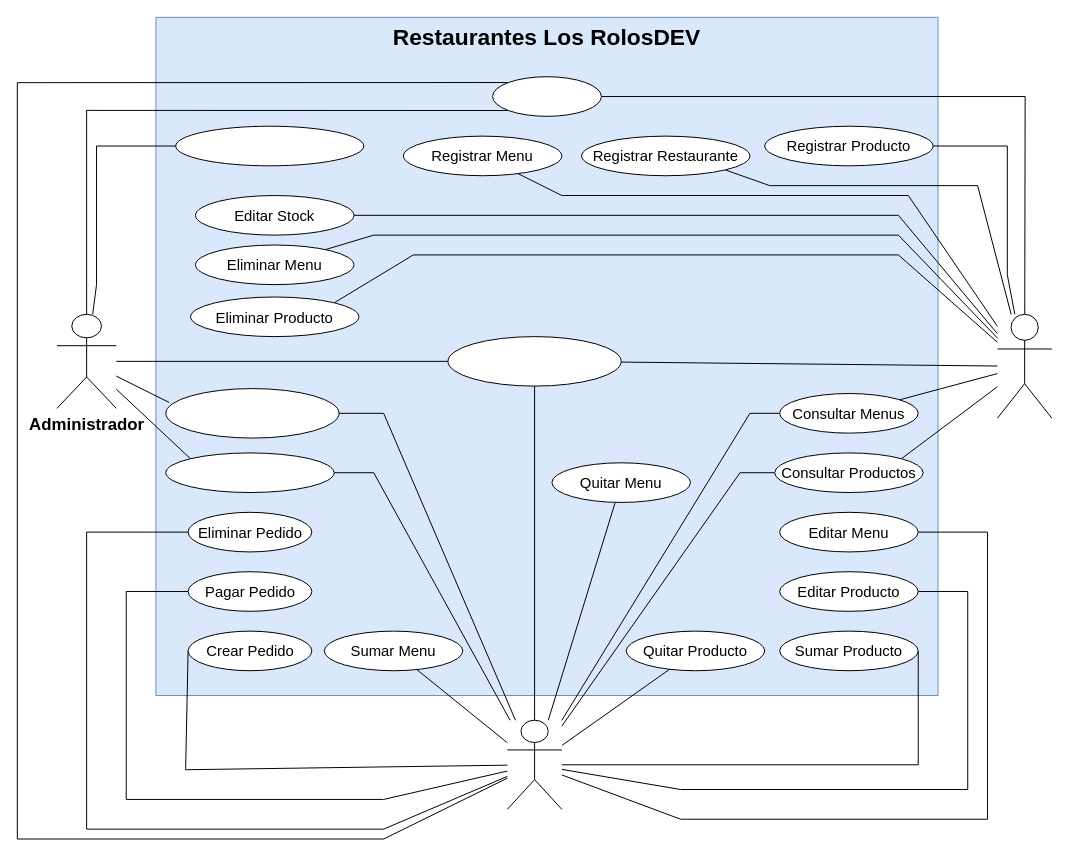
This 1090x857 diagram has some shape labels left out. The centre of each missing label's shape, as x and y in pixels:
Cliente: the point at 534,764
Consultar Pedidos: the point at 534,361
Consultar Restaurantes: the point at 252,413
Loguearse: the point at 546,96
Registrar Cliente: the point at 249,472
Registrar Ingrediente: the point at 269,145
Restaurante: the point at 1024,365
